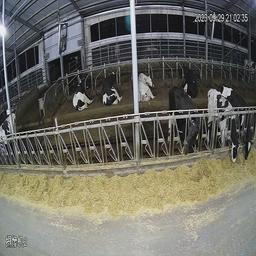cow: (165, 88, 203, 167), (207, 87, 241, 167), (227, 80, 252, 164), (65, 70, 96, 114), (99, 68, 127, 110), (176, 57, 203, 100), (139, 65, 156, 107)
